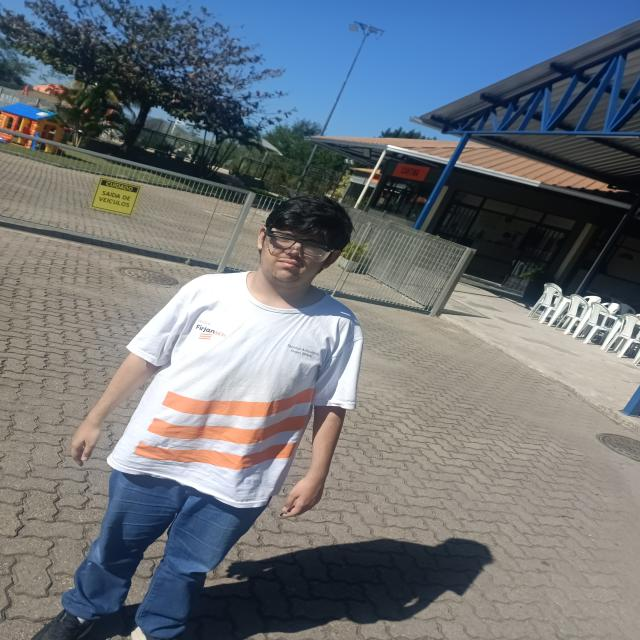oculos-epi: (255, 227, 341, 271)
